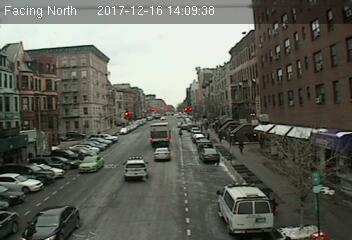car: (19, 204, 81, 240), (78, 153, 103, 172), (200, 148, 220, 162), (154, 147, 170, 160)
police: (216, 183, 275, 234), (123, 155, 151, 180)
truck: (150, 122, 171, 146)
